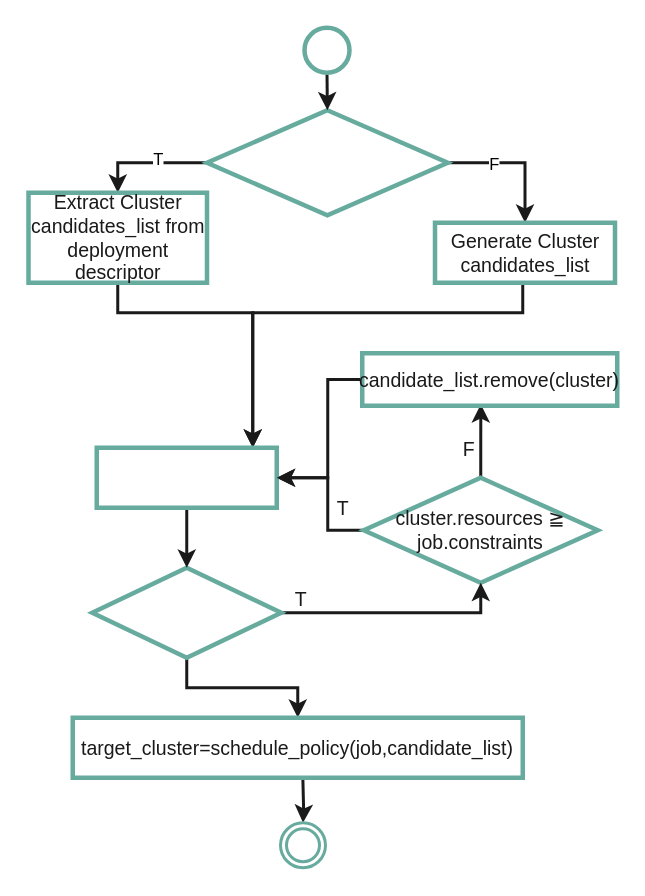
Some shapes in this 645 by 896 pixel diagram are drawn without their labels. The centre of each missing label's shape, as x and y in pixels:
"cluster != none" goes at [186,612].
"Direct Cluster Mapping" goes at [326,162].
"for: cluster in candidate_list" goes at [186,477].
